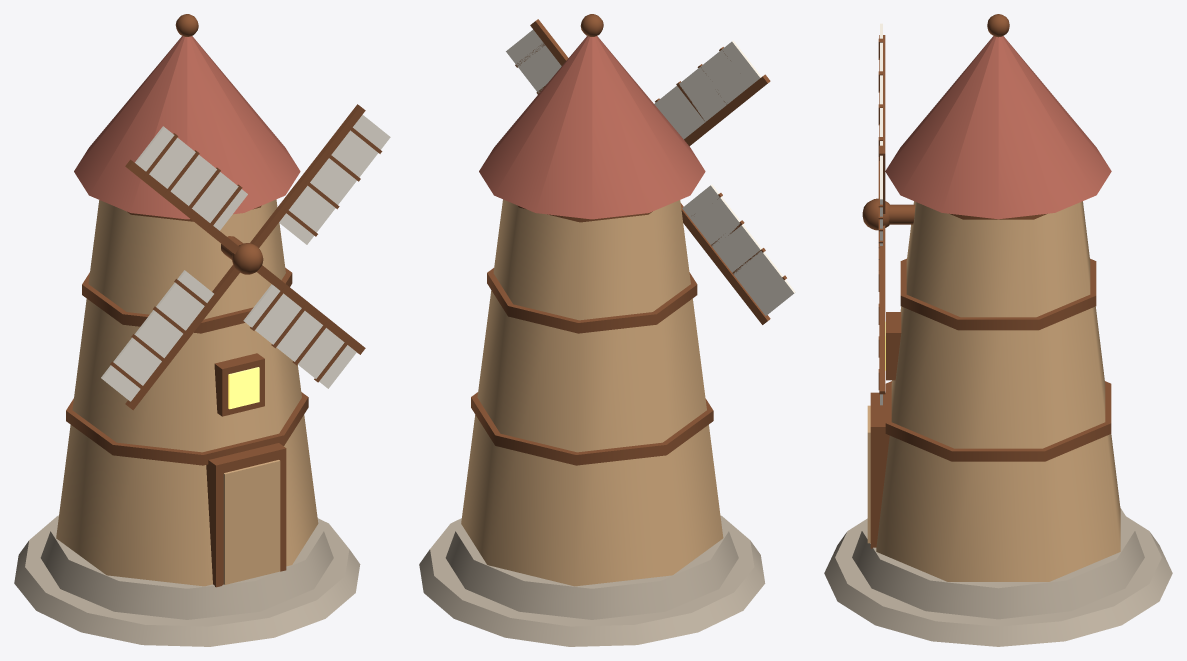
The picture shows the model from 3 angles, left to right: view 1: azimuth 30°, elevation 25°; view 2: azimuth 150°, elevation 25°; view 3: azimuth 270°, elevation 25°; orthographic projection.
Visible parts, largest first — view 1: __optimized_merged_material_1, __optimized_merged_material_0, __optimized_merged_material_4, __optimized_merged_material_2, BladeSail_1, BladeSail_3, BladeSail_2, BladeSail_0, BladeSpar_3, BladeSpar_1, BladeSpar_0, BladeSpar_2 (+2 smaller); view 2: __optimized_merged_material_1, __optimized_merged_material_4, __optimized_merged_material_0, __optimized_merged_material_2, BladeSail_1, BladeSail_0, BladeSail_3, BladeSpar_1, BladeSpar_0, BladeSpar_3; view 3: __optimized_merged_material_1, __optimized_merged_material_4, __optimized_merged_material_0, __optimized_merged_material_2, BladeSpar_2, BladeHubCap, BladeAxle.
Boxes of the visible parts, x1=… form: __optimized_merged_material_1: x1=56, y1=199, x2=318, y2=586; __optimized_merged_material_0: x1=14, y1=515, x2=360, y2=646; __optimized_merged_material_4: x1=74, y1=36, x2=300, y2=219; __optimized_merged_material_2: x1=66, y1=14, x2=308, y2=587; BladeSail_1: x1=101, y1=270, x2=213, y2=401; BladeSail_3: x1=279, y1=114, x2=390, y2=244; BladeSail_2: x1=243, y1=284, x2=356, y2=388; BladeSail_0: x1=135, y1=126, x2=247, y2=230; BladeSpar_3: x1=250, y1=104, x2=365, y2=247; BladeSpar_1: x1=125, y1=265, x2=239, y2=410; BladeSpar_0: x1=125, y1=159, x2=240, y2=254; BladeSpar_2: x1=257, y1=265, x2=365, y2=354; __optimized_merged_material_1: x1=461, y1=199, x2=723, y2=586; __optimized_merged_material_4: x1=479, y1=36, x2=705, y2=219; __optimized_merged_material_0: x1=419, y1=515, x2=765, y2=646; __optimized_merged_material_2: x1=471, y1=14, x2=713, y2=465; BladeSail_1: x1=682, y1=184, x2=795, y2=315; BladeSail_0: x1=654, y1=40, x2=761, y2=139; BladeSail_3: x1=506, y1=29, x2=561, y2=93; BladeSpar_1: x1=680, y1=203, x2=770, y2=324; BladeSpar_0: x1=684, y1=74, x2=770, y2=146; BladeSpar_3: x1=530, y1=19, x2=568, y2=65; __optimized_merged_material_1: x1=867, y1=201, x2=1120, y2=581; __optimized_merged_material_4: x1=885, y1=36, x2=1111, y2=219; __optimized_merged_material_0: x1=824, y1=508, x2=1172, y2=646; __optimized_merged_material_2: x1=870, y1=14, x2=1111, y2=548; BladeSpar_2: x1=879, y1=225, x2=885, y2=394; BladeHubCap: x1=862, y1=198, x2=889, y2=230; BladeAxle: x1=889, y1=204, x2=915, y2=224.
Bounding box in the file's own units: 4.8 × 8.48 × 4.8.
